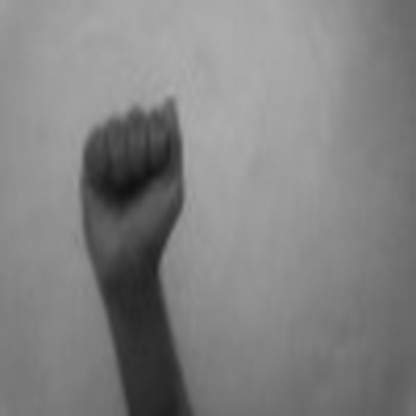a: (78, 89, 187, 272)
